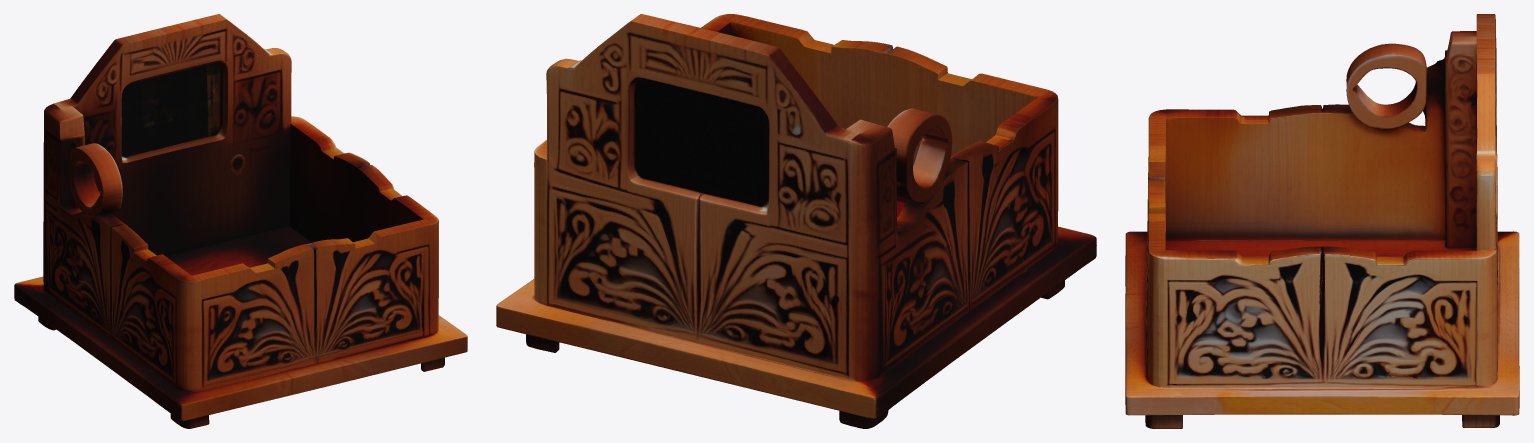
File: wooden-coffee-mug-holder-art-deco.jpeg.glb
3 renders of one model, left to right at view 1: azimuth 30°, elevation 25°; view 2: azimuth 150°, elevation 25°; view 3: azimuth 270°, elevation 25°, orthographic. The views are drawn at different scales.
Parts seen in each view (by area): view 1: world; view 2: world; view 3: world.
Boxes of the visible parts, <box> form: world: <box>14,14,467,428</box>; world: <box>496,14,1096,428</box>; world: <box>1125,14,1519,428</box>.
Bounding box in the file's own units: 0.9959 × 0.8688 × 1.
Materials: 1 (1 with a texture image).
